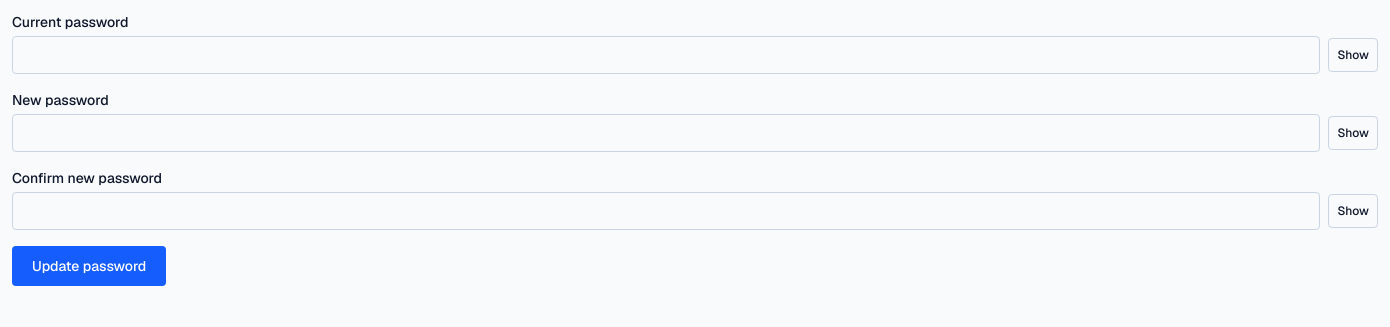
Test: PasswordForm › shows 'Passwords don't match' when the confirmation differs
In the password field labelled "Current password": (666, 55) [12,36,1320,74], type "oldpass1"
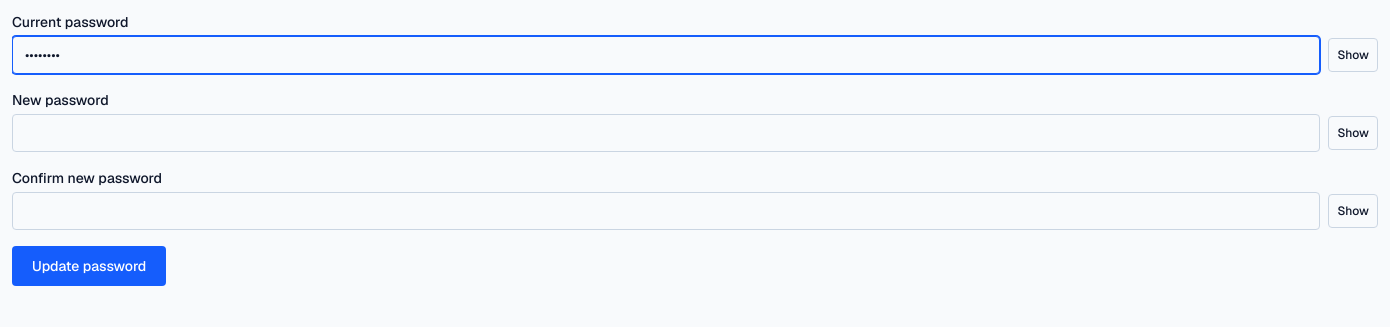
In the password field labelled "New password": (666, 133) [12,114,1320,152], type "newpass123"
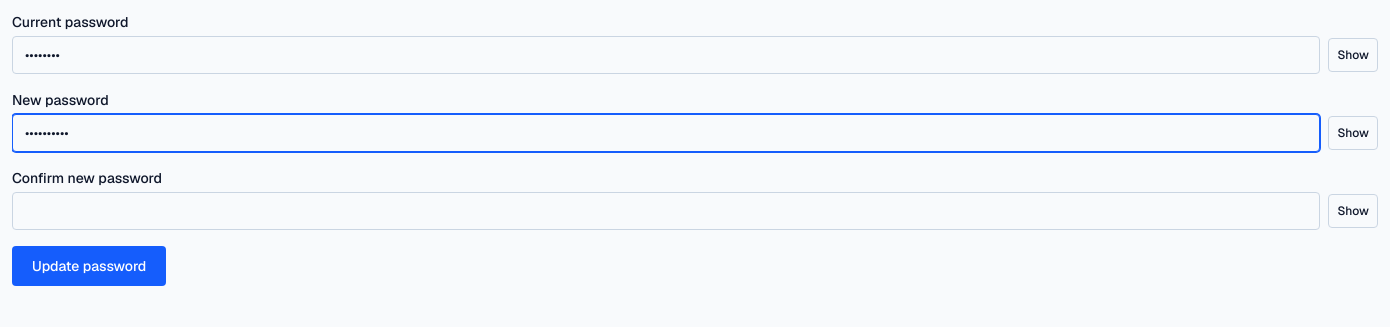
In the password field labelled "Confirm new password": (666, 211) [12,192,1320,230], type "newpass124"
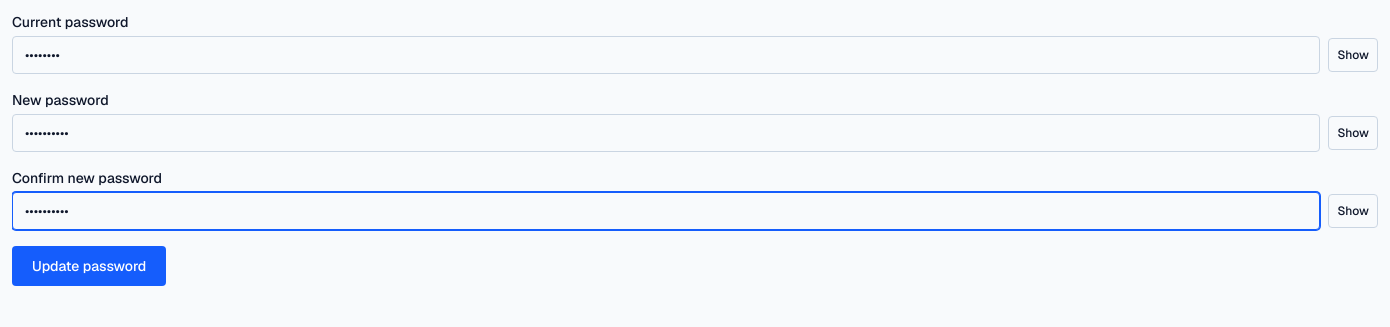
Click the button "Update password": click(89, 266) [12,246,166,286]
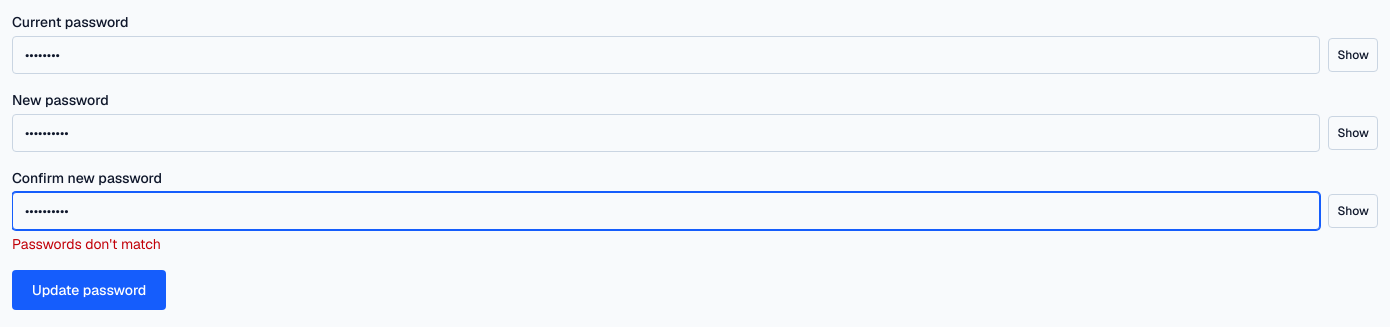
Result: the text "Passwords don't match" is shown at [12,235,161,253]
